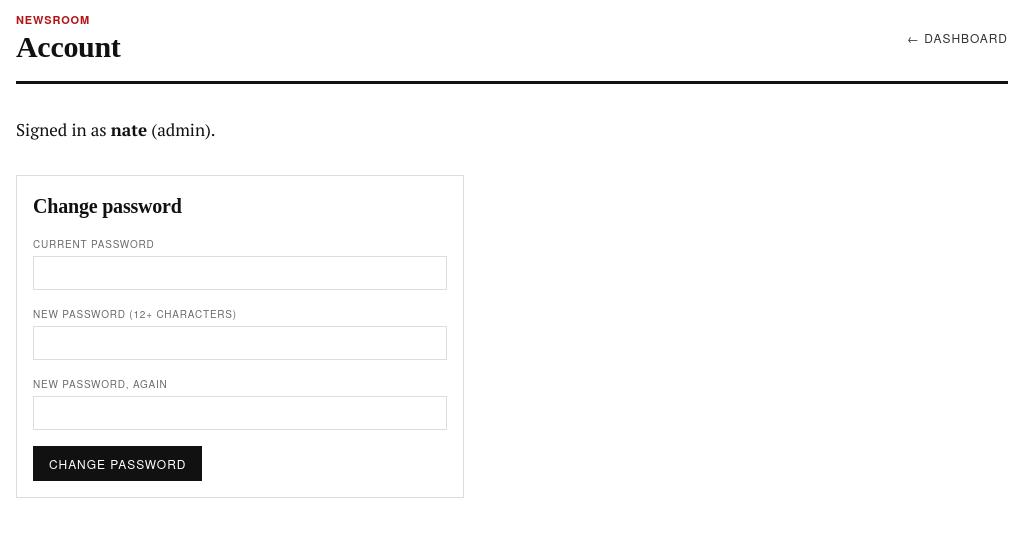
it: Account page › refuses mismatched new passwords, then changes it
Type "old-password" into the password field labelled "Current password".
click(240, 273); type("old-password")  # box [33,256,447,290]
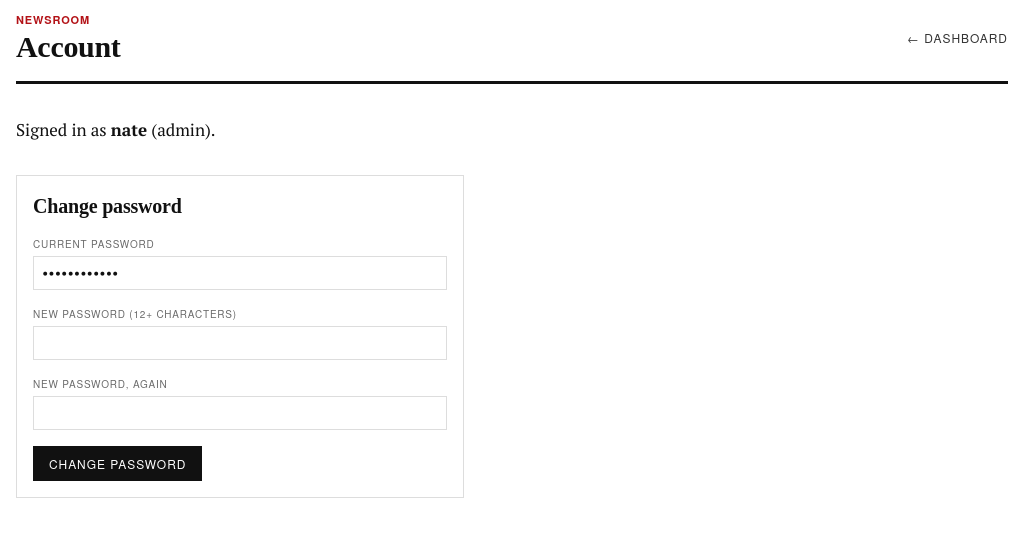
Type "a-new-password!" into the password field labelled "New password (12+ characters)".
click(240, 343); type("a-new-password!")  # box [33,326,447,360]
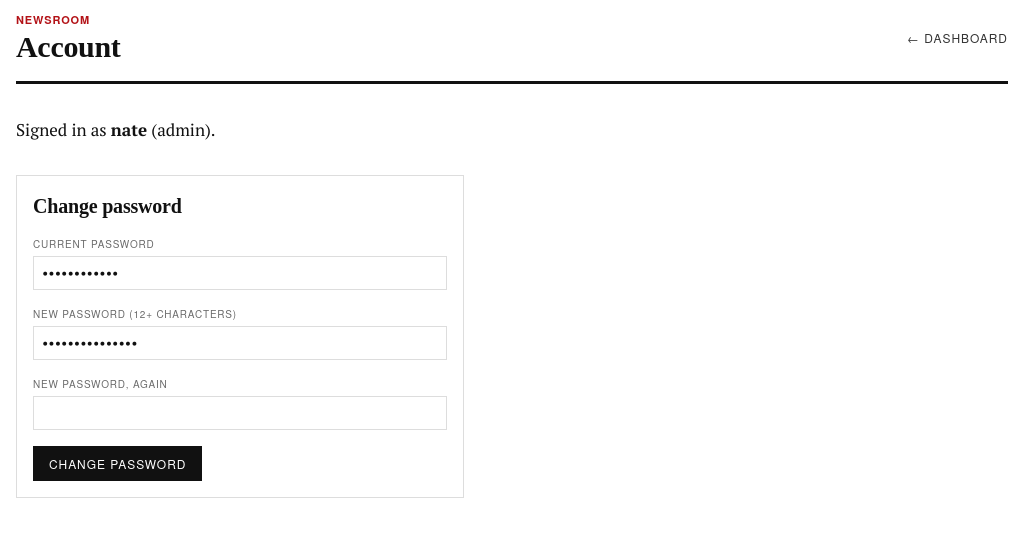
Type "a-different-one!" into the password field labelled "New password, again".
click(240, 413); type("a-different-one!")  # box [33,396,447,430]
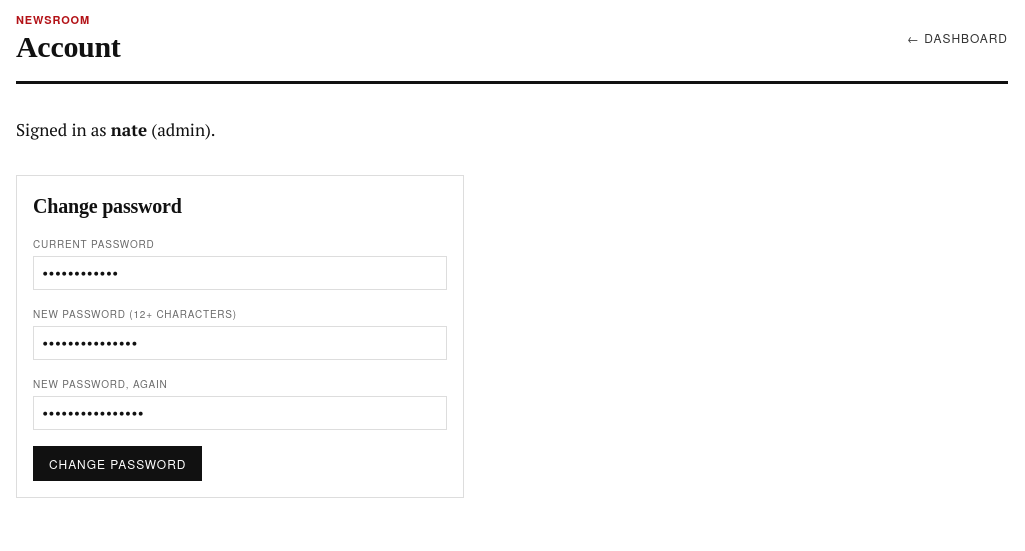
Click the button "Change password".
click(118, 463)  # box [33,446,202,481]
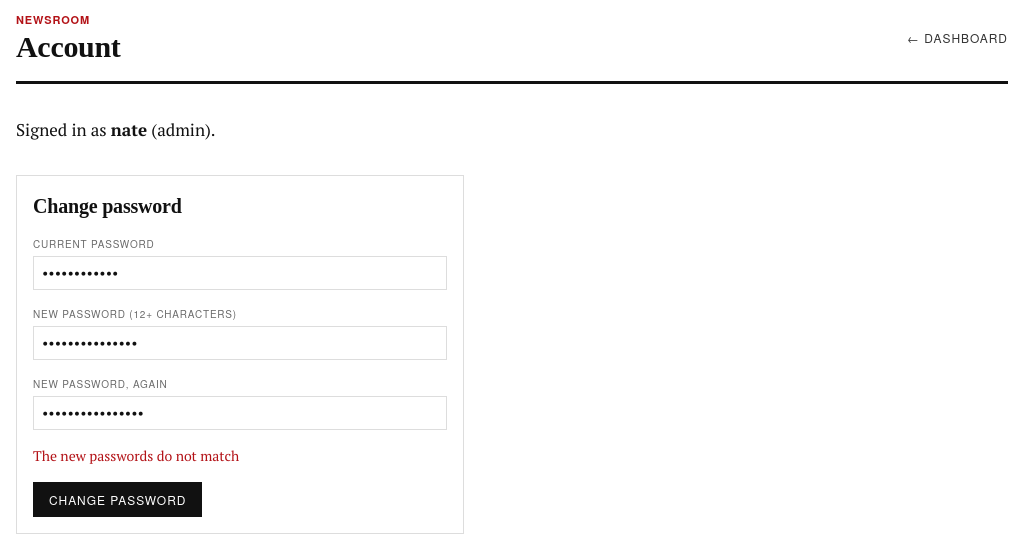
Expected: the message shows "do not match", [33,446,239,465]
Type "a-new-password!" into the password field labelled "New password, again".
click(240, 413); type("a-new-password!")  # box [33,396,447,430]
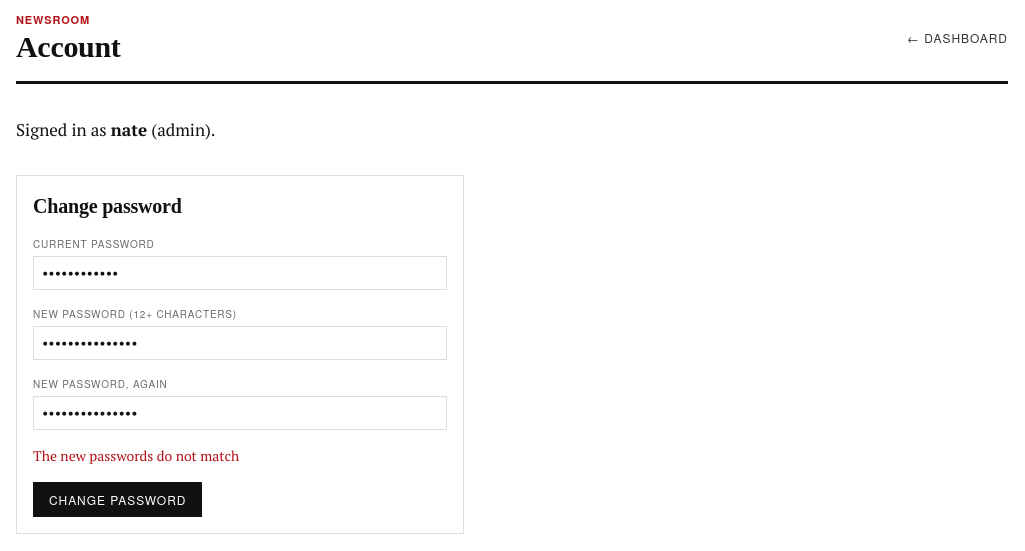
Click the button "Change password".
click(118, 499)  # box [33,482,202,517]
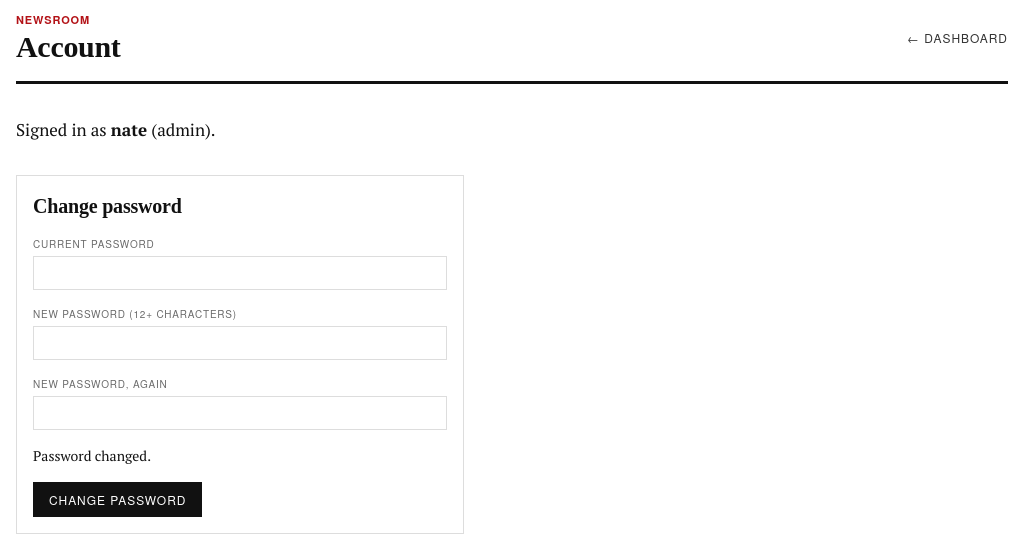
Expected: the message reads "Password changed.", [33,446,151,465]
